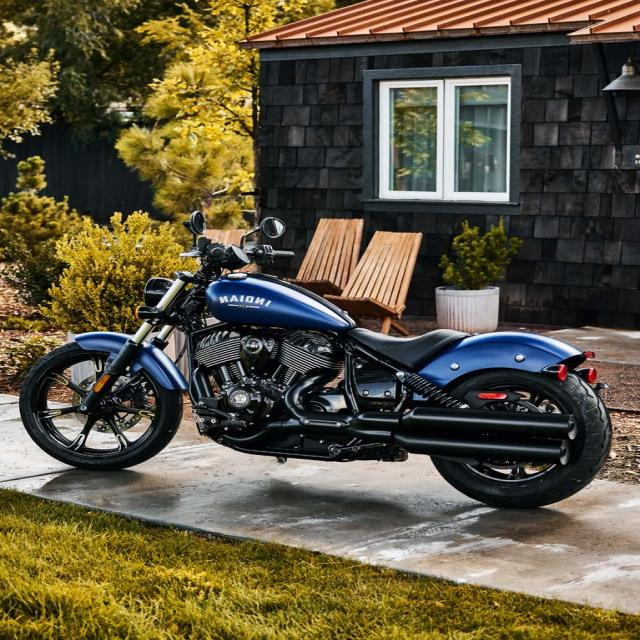motorcycle: (21, 211, 611, 508)
